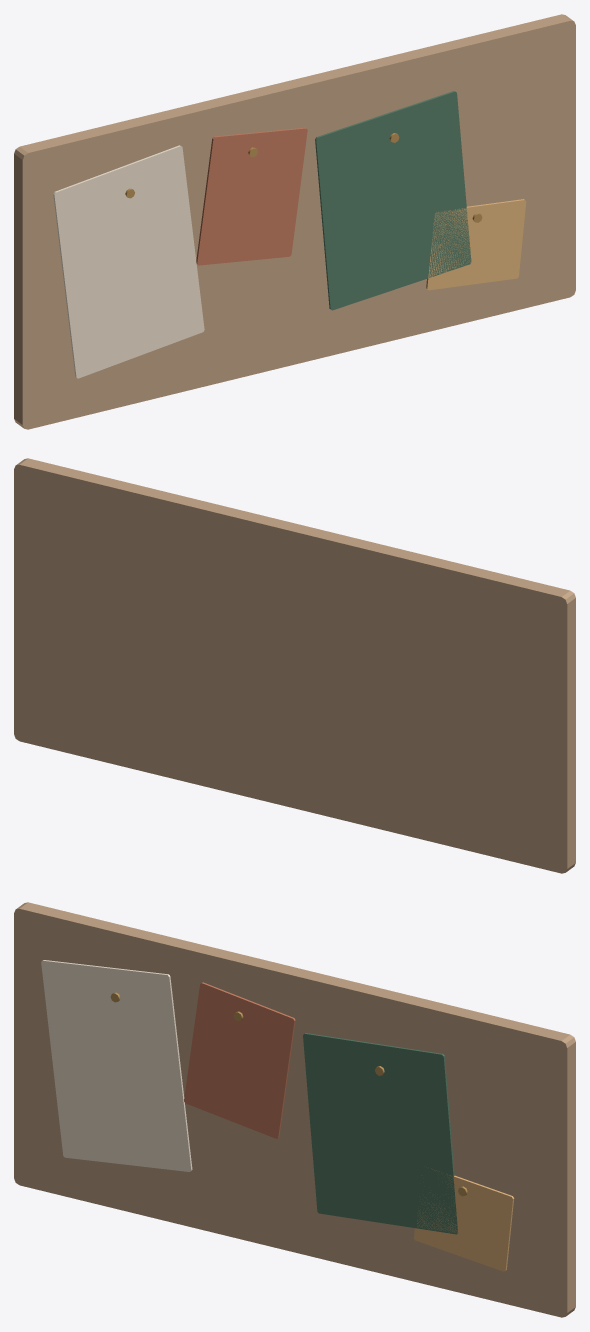
File: kit_moodboard_v1.glb
3 views of the same model, one above another, from view 1: azimuth 30°, elevation 25°; view 2: azimuth 150°, elevation 25°; view 3: azimuth 330°, elevation 25° (orthographic).
Visible parts, largest first — view 1: body; view 2: body; view 3: body.
Part boxes in pixels (<box>): body: <box>14,14,575,429</box>; body: <box>14,458,575,873</box>; body: <box>14,902,575,1317</box>.
Bounding box in the file's own units: 1.8 × 0.86 × 0.07.
